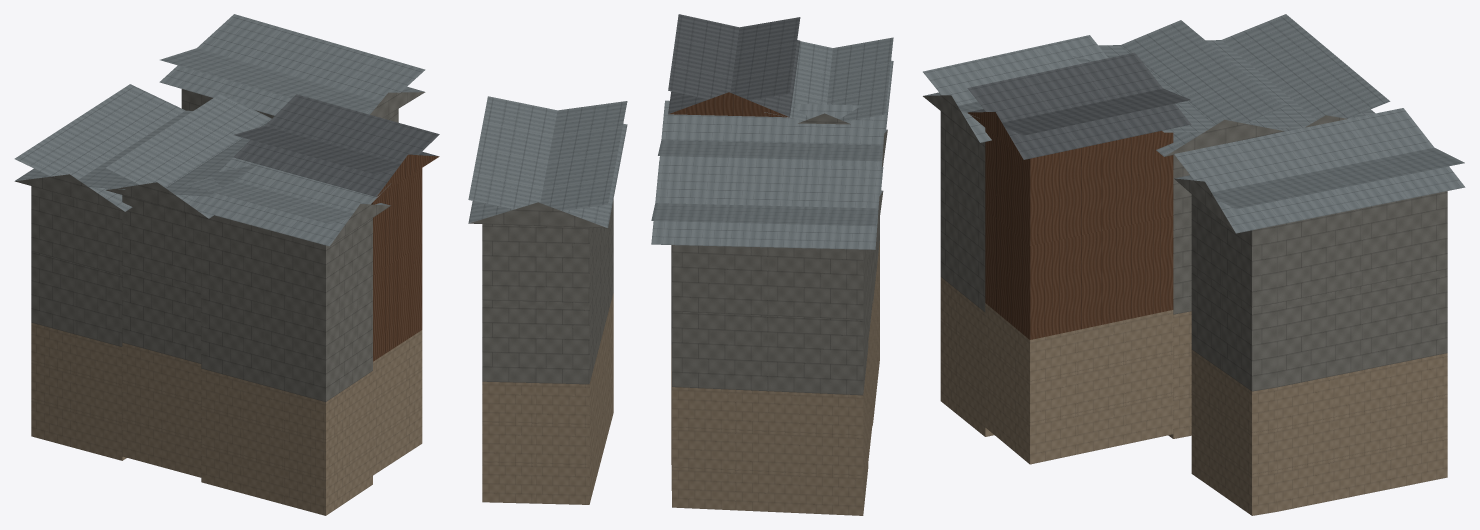
Rendered from bld_c29_-53_550.gltf.
3 renders of one model, left to right at view 1: azimuth 30°, elevation 25°; view 2: azimuth 150°, elevation 25°; view 3: azimuth 270°, elevation 25°, orthographic. The views are drawn at different scales.
Parts seen in each view (by area): view 1: bld_c29_-53_550; view 2: bld_c29_-53_550; view 3: bld_c29_-53_550.
Part boxes in pixels (x1,y1,x2,y2): bld_c29_-53_550: [14, 14, 439, 515]; bld_c29_-53_550: [468, 14, 893, 515]; bld_c29_-53_550: [923, 14, 1465, 515].
Bounding box in the file's own units: 18.23 × 14.2 × 20.17.
7 materials, 7 textured.
